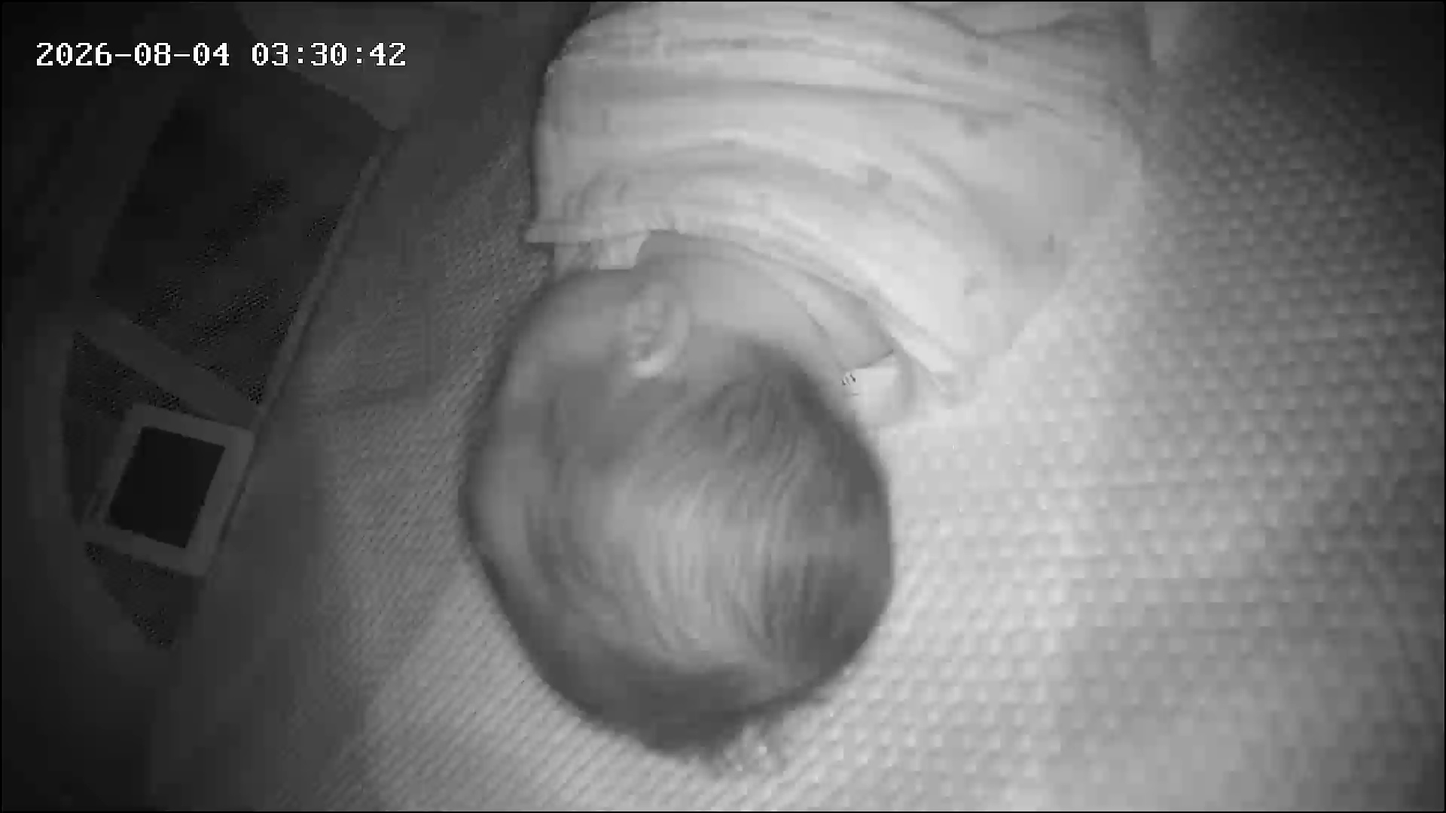baby: (443, 0, 1156, 758), (380, 1, 939, 773)
baby_face: (462, 231, 907, 743)
